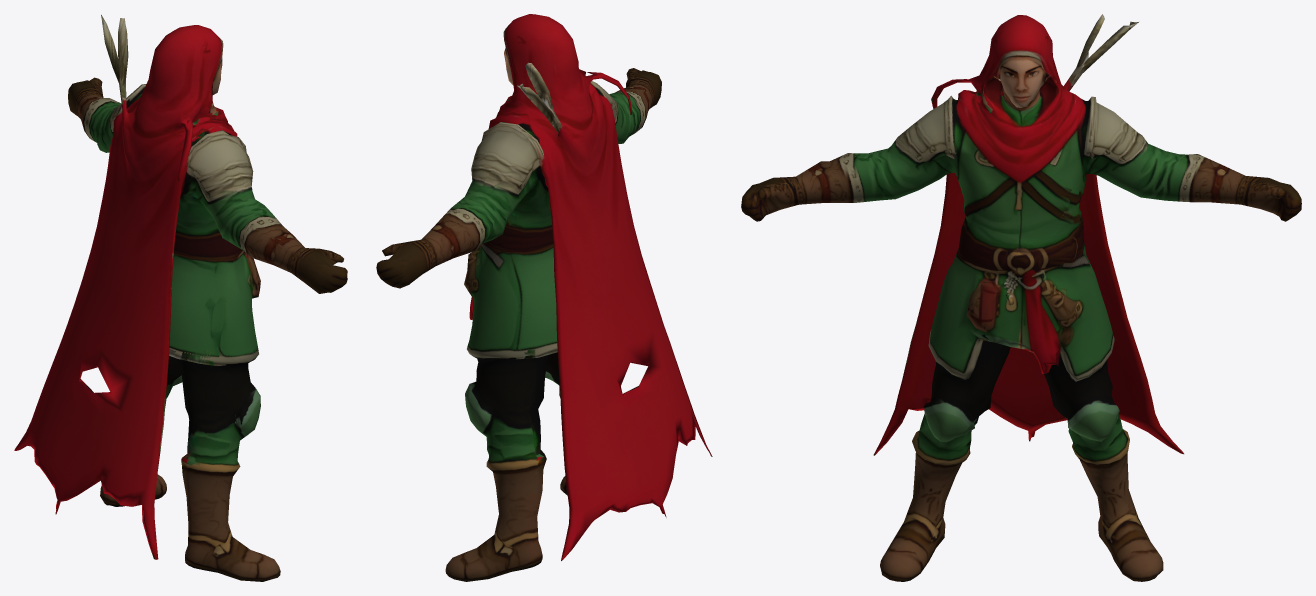
The model's file is DiegoFT.fbx.
3 views of the same model, side by side, from view 1: azimuth 30°, elevation 25°; view 2: azimuth 150°, elevation 25°; view 3: azimuth 270°, elevation 25° (orthographic). The views are drawn at different scales.
Parts seen in each view (by area): view 1: tripo_node_c187df9e; view 2: tripo_node_c187df9e; view 3: tripo_node_c187df9e.
Part boxes in pixels (bbox=[...]): tripo_node_c187df9e: bbox=[14, 15, 347, 581]; tripo_node_c187df9e: bbox=[376, 14, 712, 581]; tripo_node_c187df9e: bbox=[741, 14, 1301, 581].
Size of the model in its own units: 0.3758 by 1 by 0.9285.
Materials: 1 (1 with a texture image).
